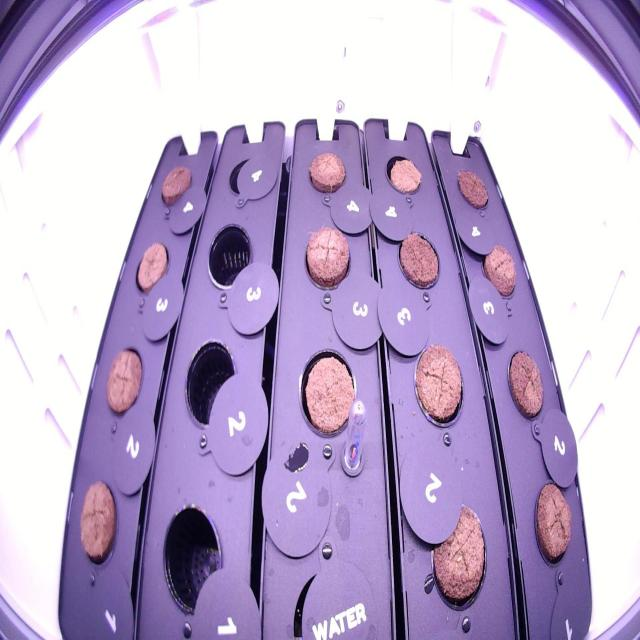empty_pod: (156, 494, 233, 626), (178, 330, 244, 436), (202, 212, 260, 296), (223, 141, 275, 203)
pod: (426, 494, 492, 620), (294, 337, 364, 449), (407, 332, 470, 440), (75, 470, 122, 577), (529, 476, 576, 574), (500, 338, 550, 429), (299, 218, 355, 295), (100, 338, 149, 422), (394, 222, 444, 298), (478, 229, 525, 305), (130, 232, 171, 300), (303, 145, 350, 202), (380, 146, 426, 201), (452, 160, 494, 217), (156, 155, 196, 212)
